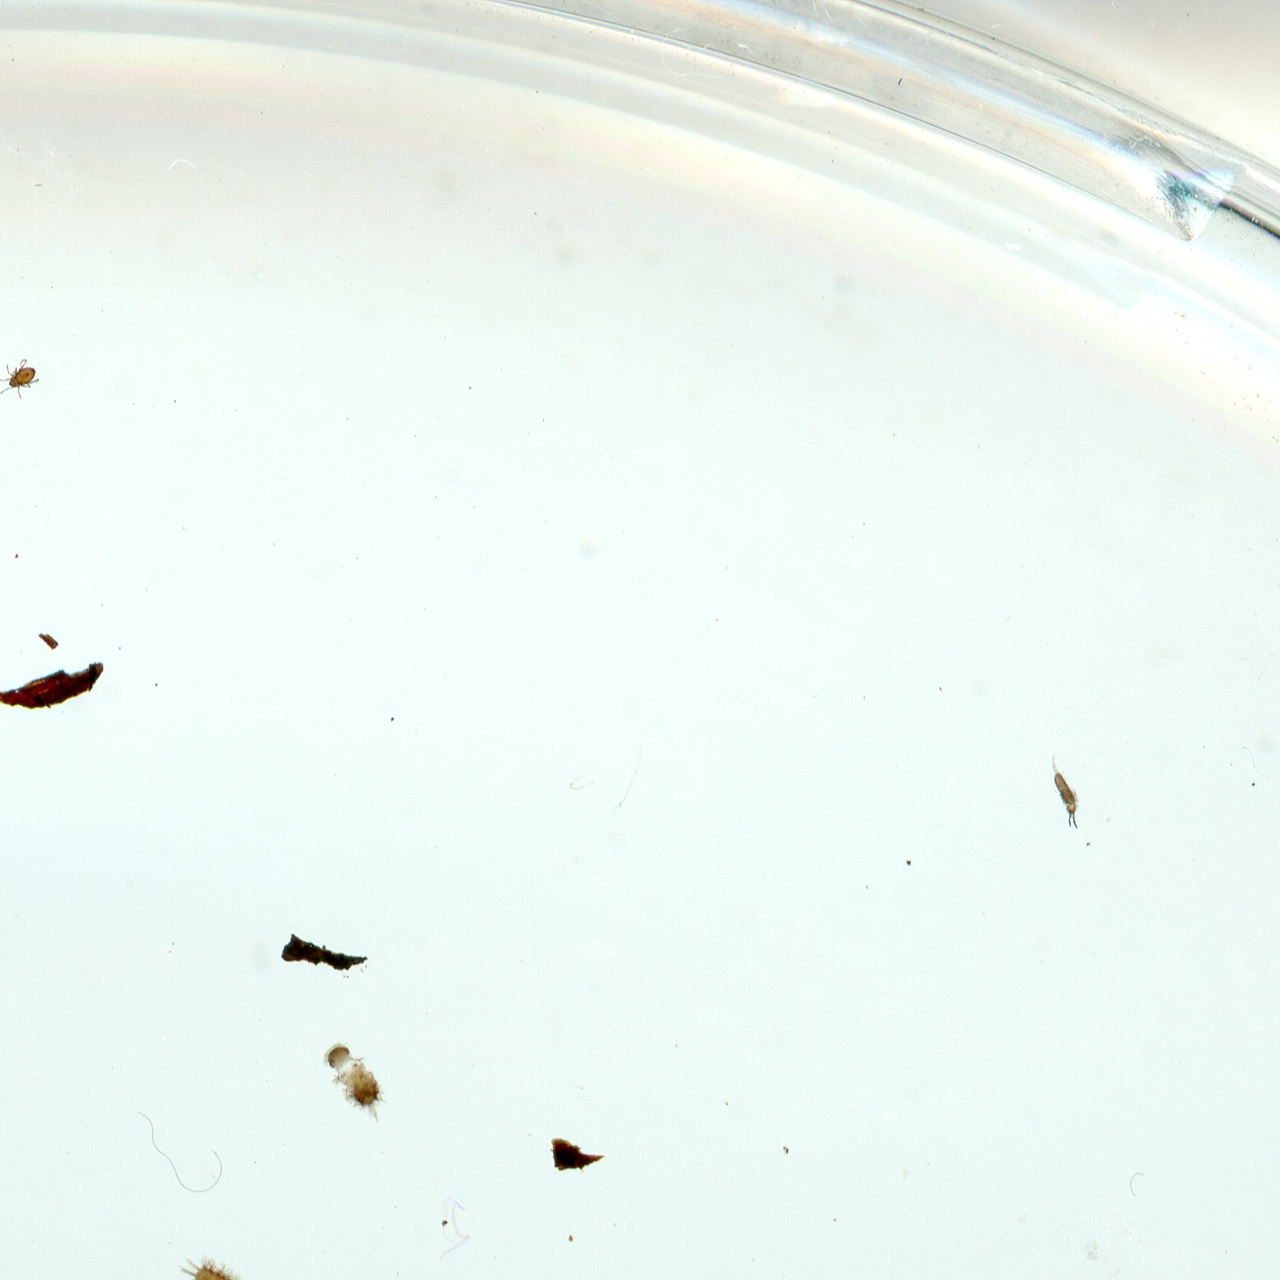arthropod: (308, 1029, 409, 1135), (1042, 743, 1088, 836), (166, 1239, 263, 1280), (0, 349, 46, 409)
